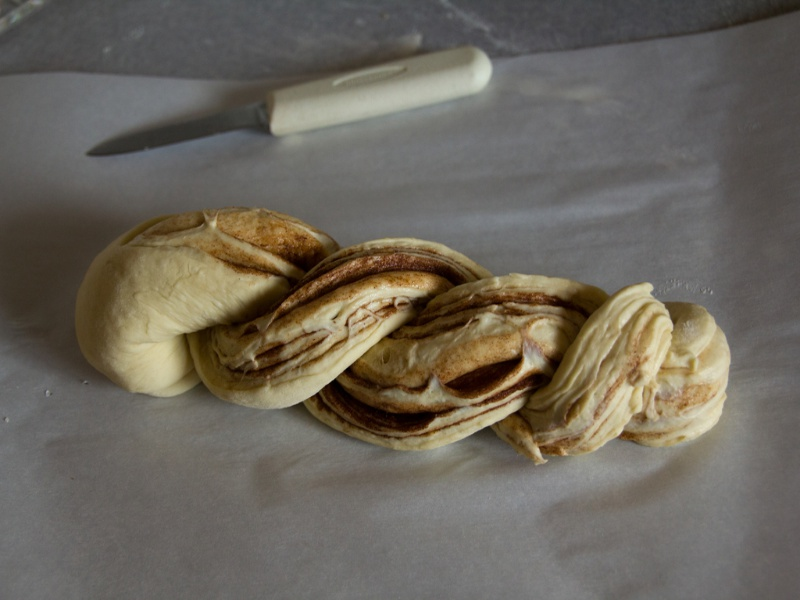knife: (85, 42, 495, 159)
